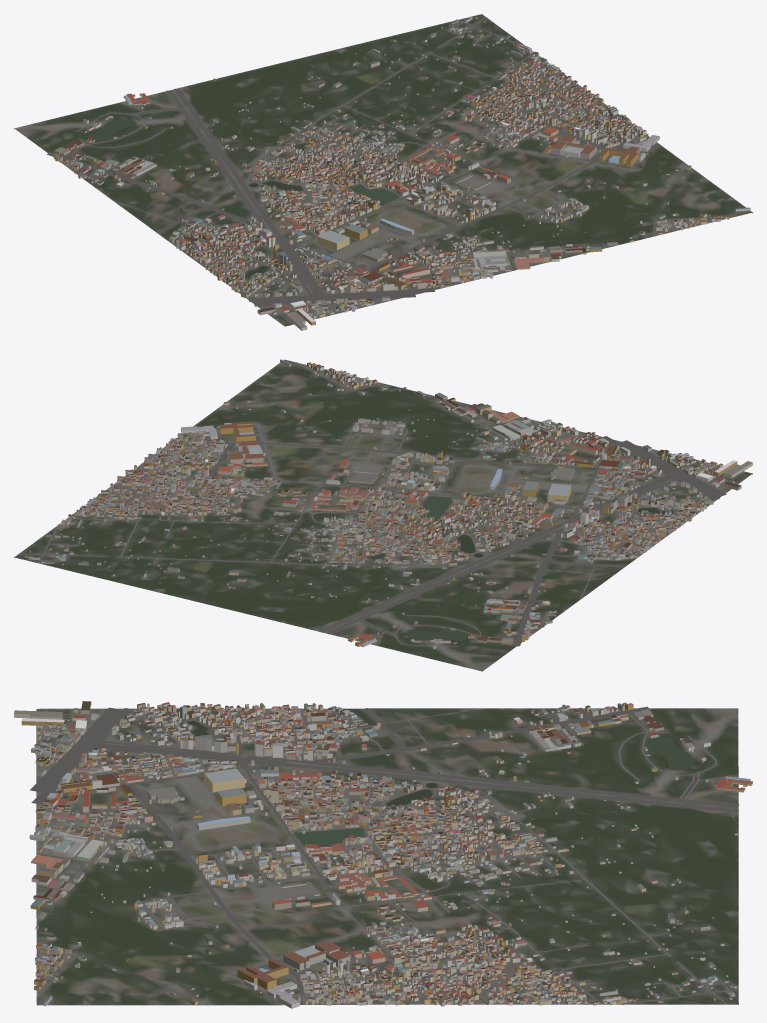
3 renders of one model, top to bottom at view 1: azimuth 30°, elevation 25°; view 2: azimuth 150°, elevation 25°; view 3: azimuth 270°, elevation 25°, orthographic. The views are drawn at different scales.
Visible parts, largest first — view 1: ground, buildings, roads, water; view 2: ground, buildings, roads, water; view 3: ground, buildings, roads, water.
Boxes of the visible parts, left/top/right/bottom form: ground: left=14, top=14, right=752, bottom=326; buildings: left=54, top=16, right=750, bottom=330; roads: left=47, top=17, right=741, bottom=324; water: left=87, top=119, right=398, bottom=278; ground: left=14, top=359, right=752, bottom=671; buildings: left=24, top=359, right=752, bottom=649; roads: left=19, top=362, right=745, bottom=646; water: left=406, top=496, right=673, bottom=640; ground: left=36, top=708, right=738, bottom=1005; buildings: left=14, top=701, right=752, bottom=1008; roads: left=30, top=706, right=738, bottom=1005; water: left=187, top=721, right=694, bottom=846.
Bounding box in the file's own units: 1435 × 30.57 × 1475.
